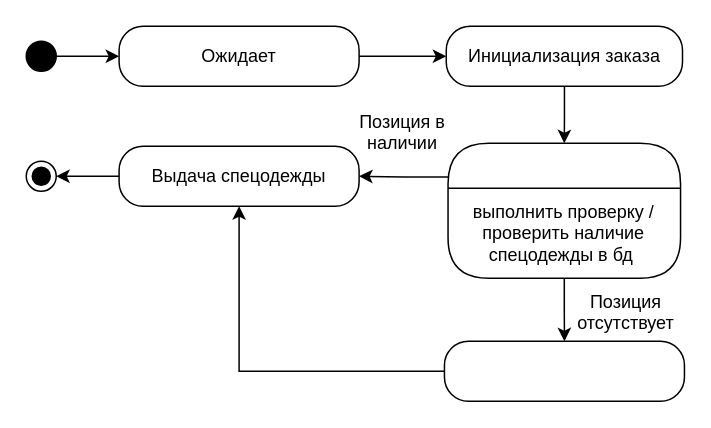
This 711x428 diagram has some shape labels left out. The box of each missing label's shape, as (x1, y1, x2, y2) in pixels:
Ожидание: (443, 340, 684, 401)
Проверка: (447, 142, 681, 278)
